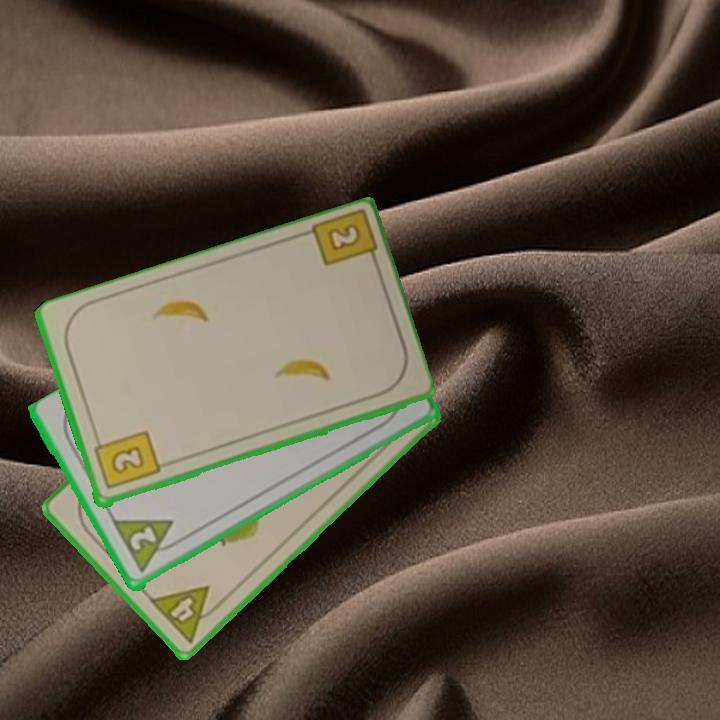2b: (306, 209, 382, 272), (90, 427, 162, 493)
2p: (125, 523, 160, 555)
4p: (146, 582, 227, 646)
